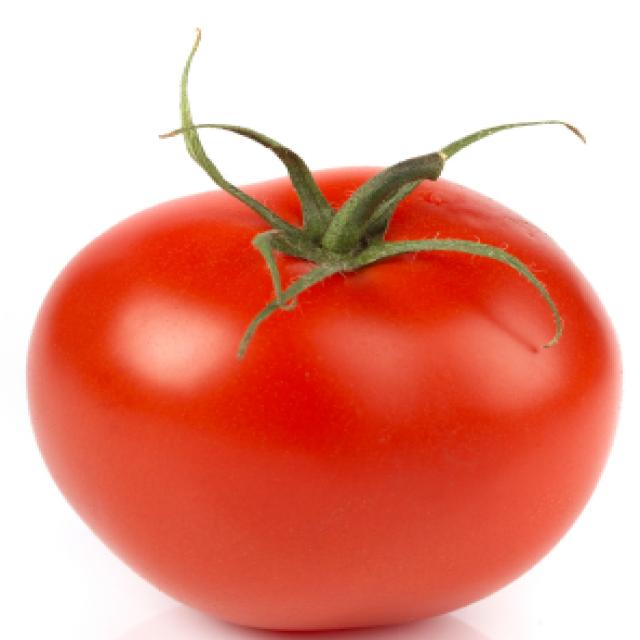tomato: (3, 42, 634, 640)
